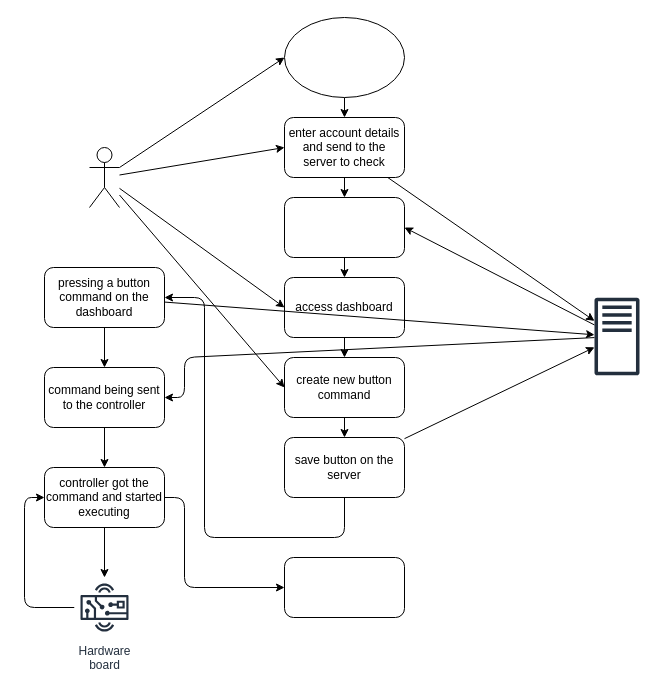
Some shapes in this 657 by 691 pixel diagram are drawn without their labels. The centre of each missing label's shape, as x and y in pixels:
existing user: the point at 104,177
login: the point at 344,57
login success: the point at 344,227
user seeing success message: the point at 344,587
